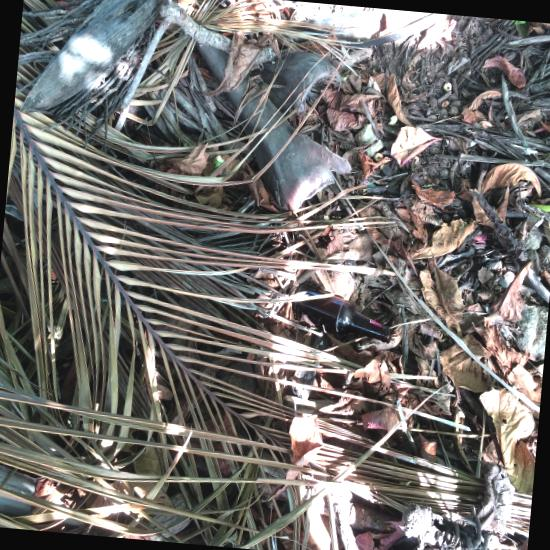Glass bottle: (291, 295, 392, 343)
